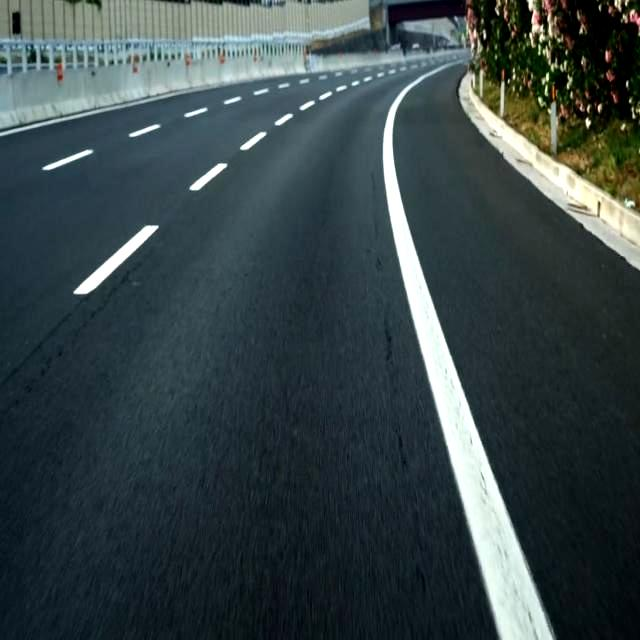lane: (382, 62, 554, 640), (2, 92, 192, 138), (74, 226, 159, 295), (41, 149, 94, 171), (189, 164, 228, 191), (129, 124, 161, 138)
road: (0, 69, 497, 639), (394, 65, 639, 639)
